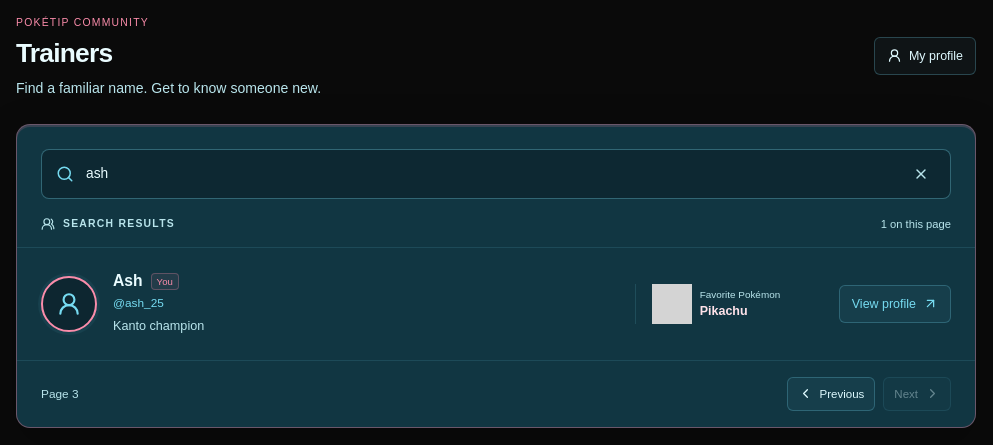
Test case: trainer directory › clears a search from a later page and marks the viewer's own profile
Expected: the heading "Ash" is shown, [113,271,143,292]
Expected: the text "You" is shown, [151,273,179,290]
Click the button named "Clear search".
click(921, 174)  # box [906,158,936,188]
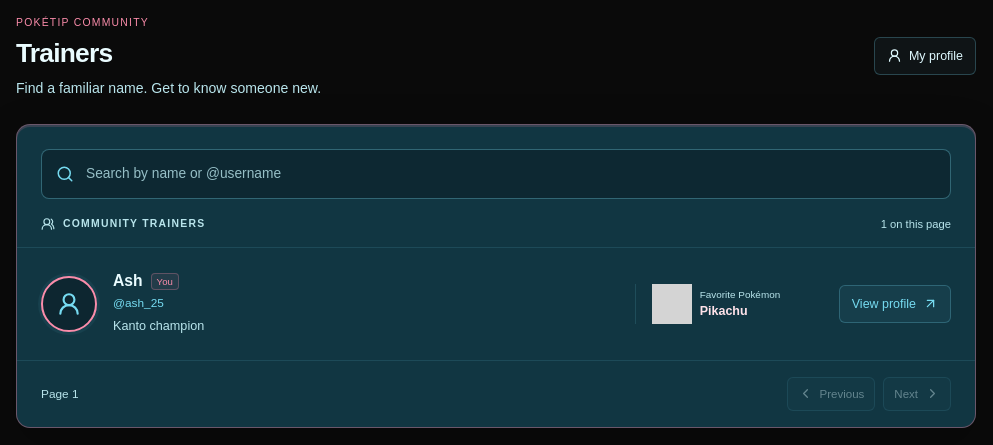
Expected: the search field named "Search trainers" is empty, [86,152,936,195]
Expected: the text "Page 1" is shown, [41,386,78,400]
